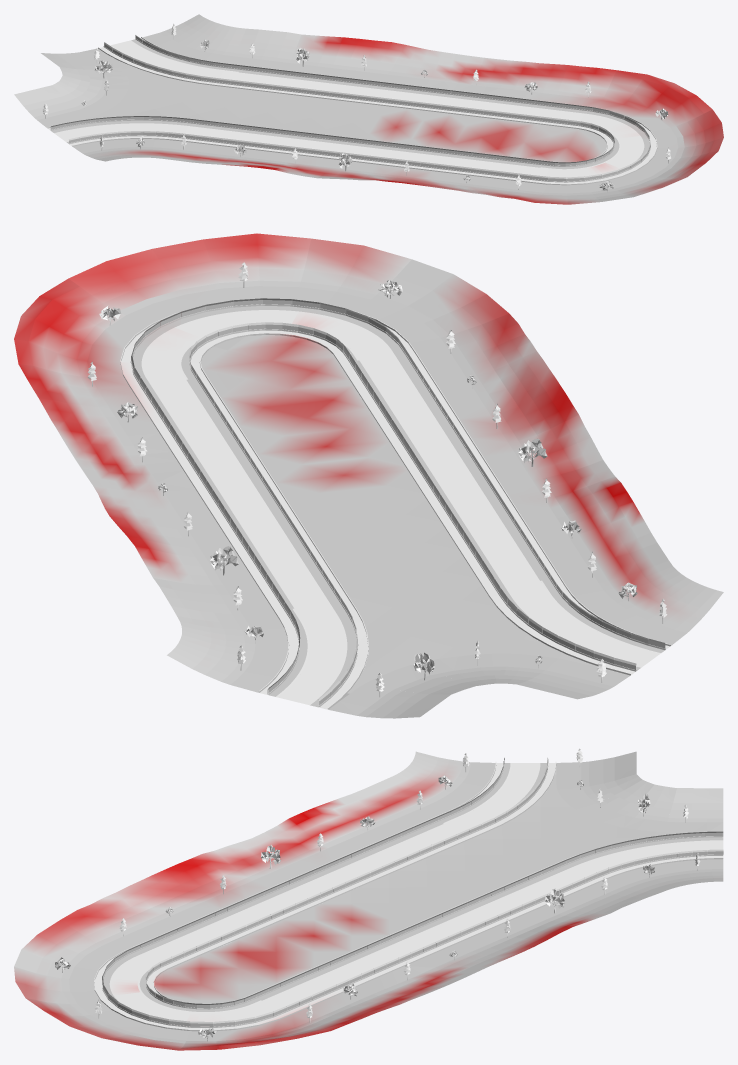
3 renders of one model, top to bottom at view 1: azimuth 30°, elevation 25°; view 2: azimuth 150°, elevation 25°; view 3: azimuth 270°, elevation 25°, orthographic. The views are drawn at different scales.
Visible parts, largest first — view 1: Grass, Road, Wirefence, Track, Tress; view 2: Grass, Road, Track, Wirefence, Tress; view 3: Grass, Road, Track, Wirefence, Tress.
Part boxes in pixels (x1,y1,x2,y2): Grass: (14,14,723,204); Road: (54,40,643,177); Wirefence: (50,35,650,181); Track: (47,35,657,185); Tress: (43,24,670,192); Grass: (14,233,723,718); Road: (142,310,659,704); Track: (120,298,670,709); Wirefence: (131,298,665,705); Tress: (87,262,667,696); Grass: (14,751,723,1050); Road: (110,763,723,1021); Track: (94,762,723,1031); Wirefence: (102,757,723,1026); Tress: (55,749,700,1041).
Size of what is drawn, in the model's own units: 44950 by 1874 by 44976.
